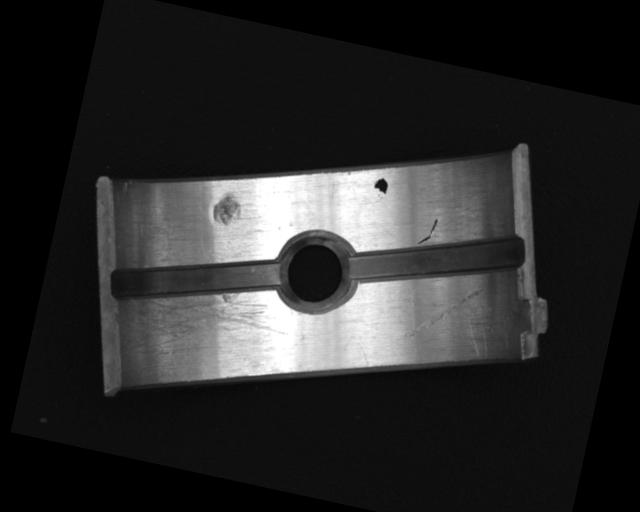blot: (370, 175, 390, 200)
bruise: (209, 190, 246, 230)
gap: (347, 202, 527, 313), (107, 227, 288, 331)
hole: (270, 227, 360, 319)
nick: (401, 272, 486, 356), (417, 214, 439, 248)
scratch: (107, 267, 297, 385)
